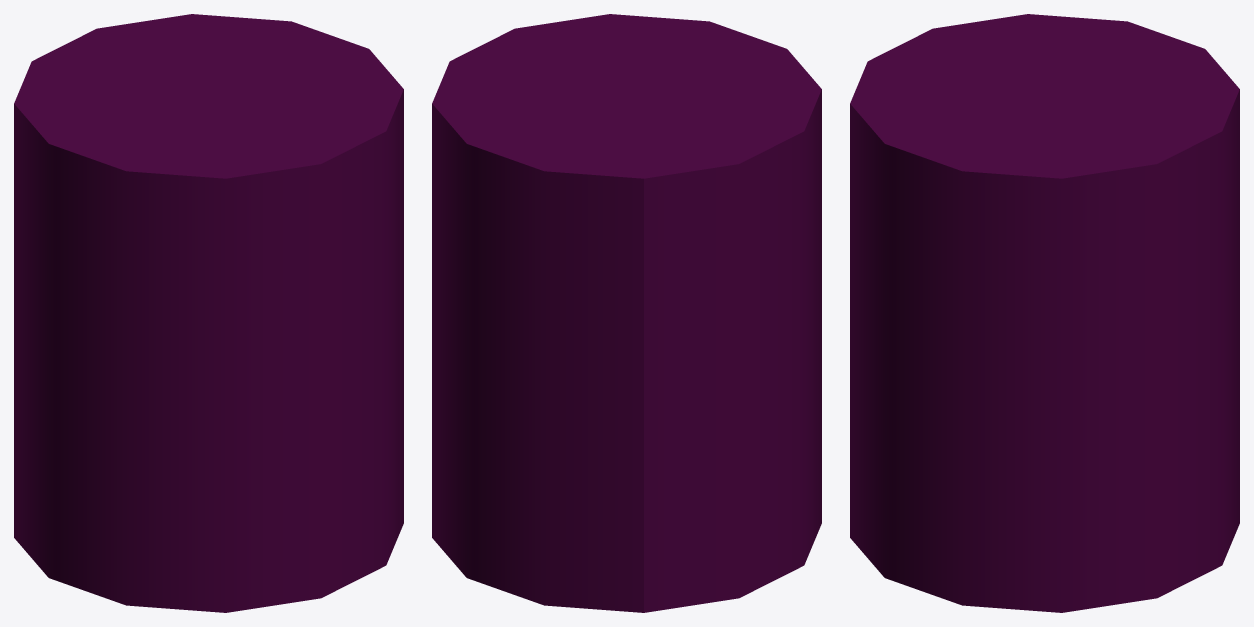
File: Workshop_Cont1.fbx
3 renders of one model, left to right at view 1: azimuth 30°, elevation 25°; view 2: azimuth 150°, elevation 25°; view 3: azimuth 270°, elevation 25°, orthographic.
Parts seen in each view (by area): view 1: Workshop_Cont1; view 2: Workshop_Cont1; view 3: Workshop_Cont1.
Boxes of the visible parts, left/top/right/bottom form: Workshop_Cont1: left=14, top=14, right=403, bottom=612; Workshop_Cont1: left=432, top=14, right=821, bottom=612; Workshop_Cont1: left=850, top=14, right=1239, bottom=612.
Bounding box in the file's own units: 13.37 × 16.43 × 13.37.
